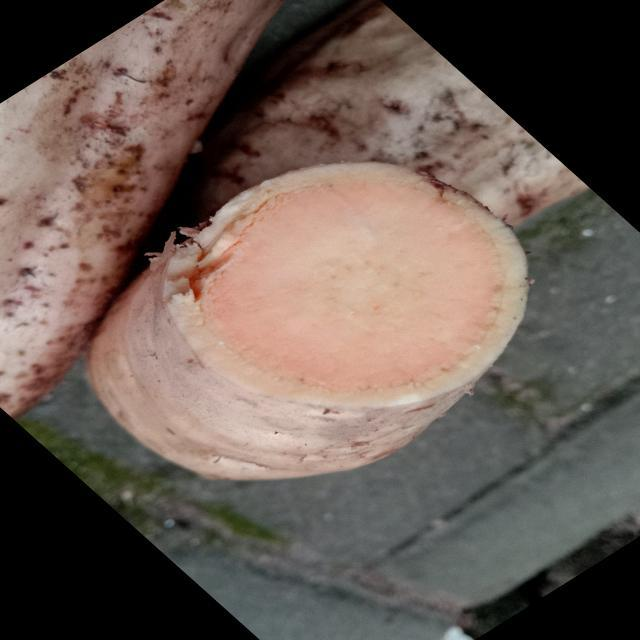Healthy Sweet Potato: (163, 162, 528, 406)
